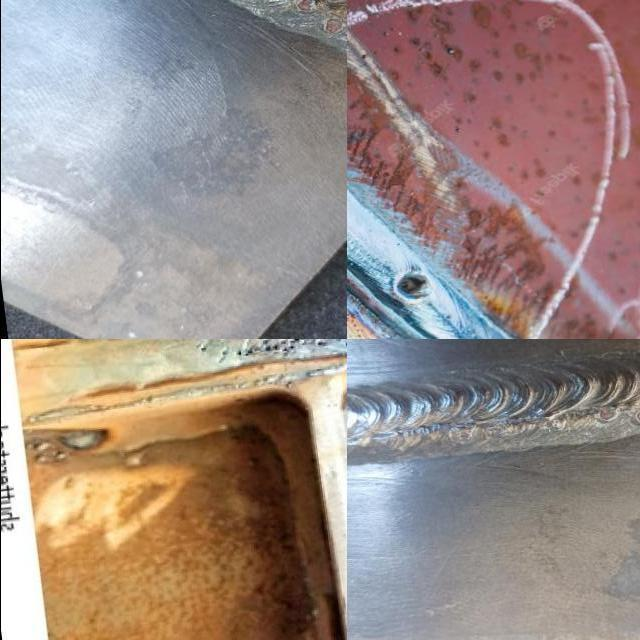defect: (193, 339, 306, 362), (391, 267, 432, 301), (486, 419, 513, 439), (321, 14, 346, 35), (452, 421, 476, 441), (292, 0, 324, 15), (593, 403, 621, 420), (633, 408, 640, 426)
